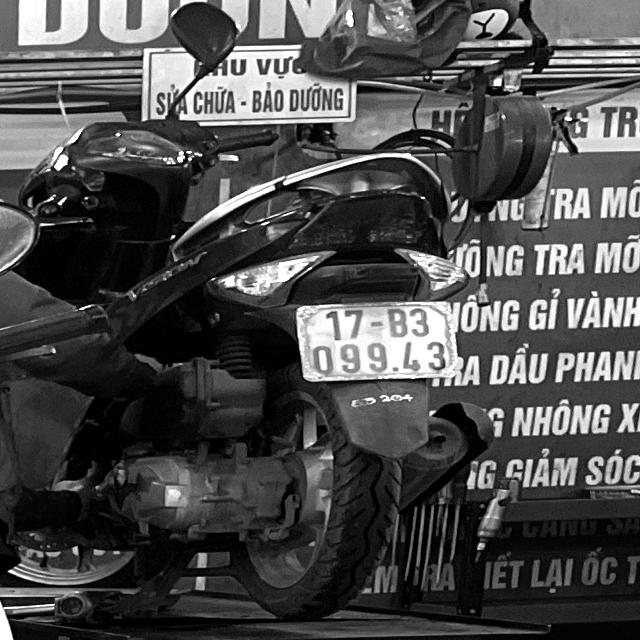license_plate: (288, 292, 478, 384)
